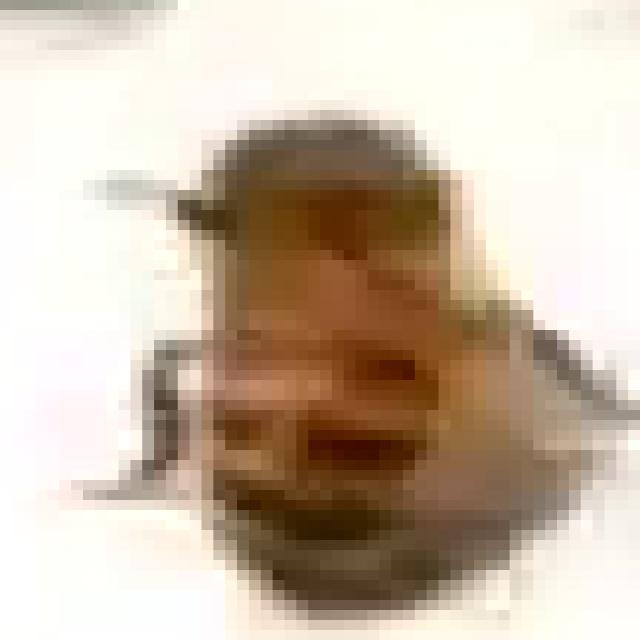honeybee: (74, 105, 599, 608)
